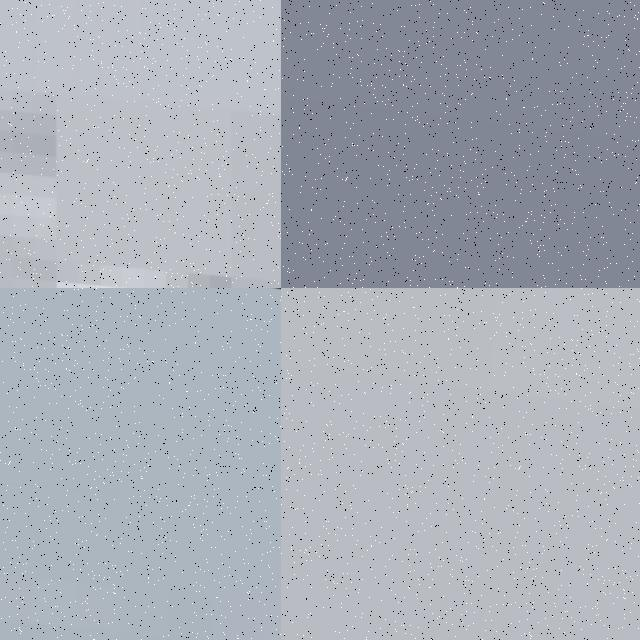drone: (0, 288, 281, 640), (0, 0, 281, 288)
